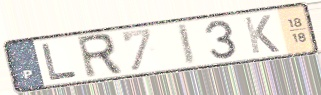3: (203, 18, 239, 62)
7: (120, 27, 155, 74)
I: (174, 21, 198, 67)
K: (241, 13, 282, 56)
L: (39, 41, 80, 83)
R: (74, 32, 126, 81)
